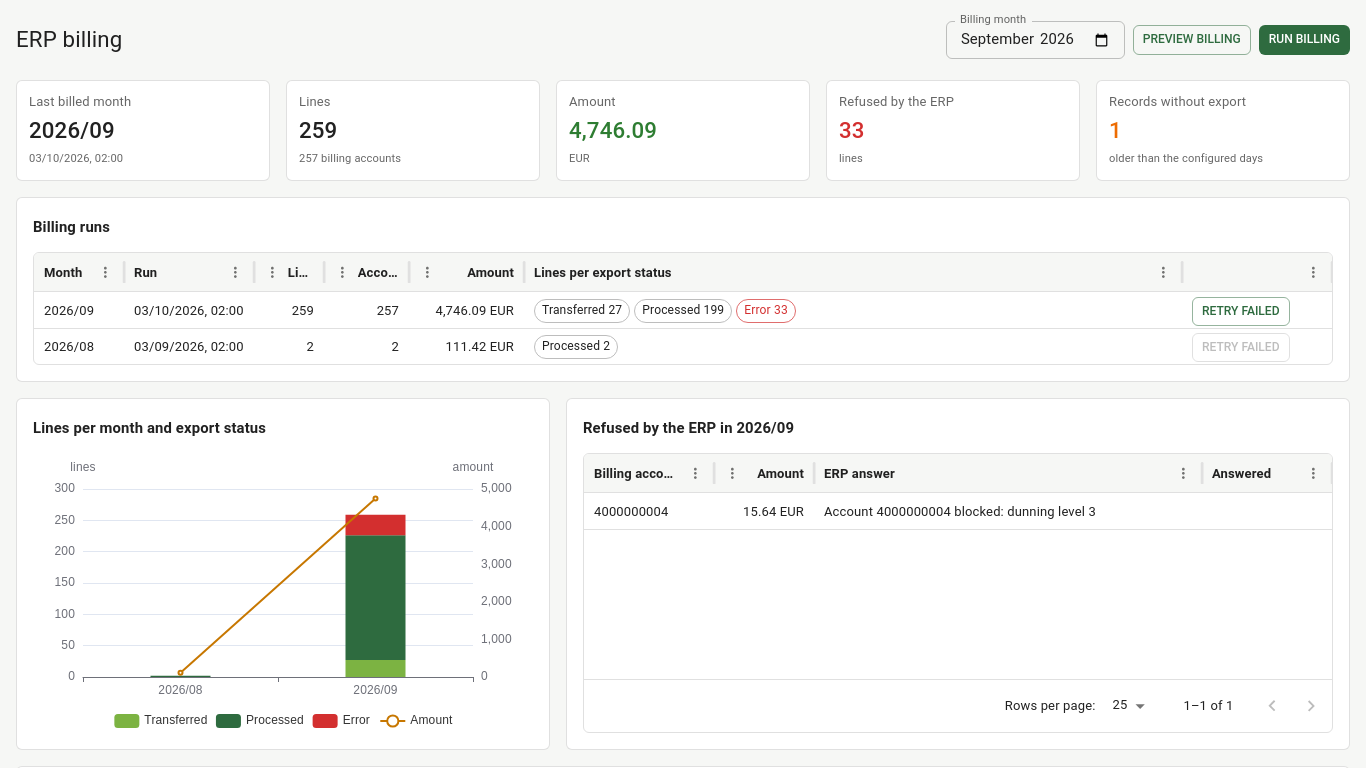
Test: ERP billing tab › previews the billing of the chosen month without storing it
The image size is (1366, 768).
Replace the text in the field with test id "billing-month" with "2026-10": [1035, 40] box [946,21,1125,59]
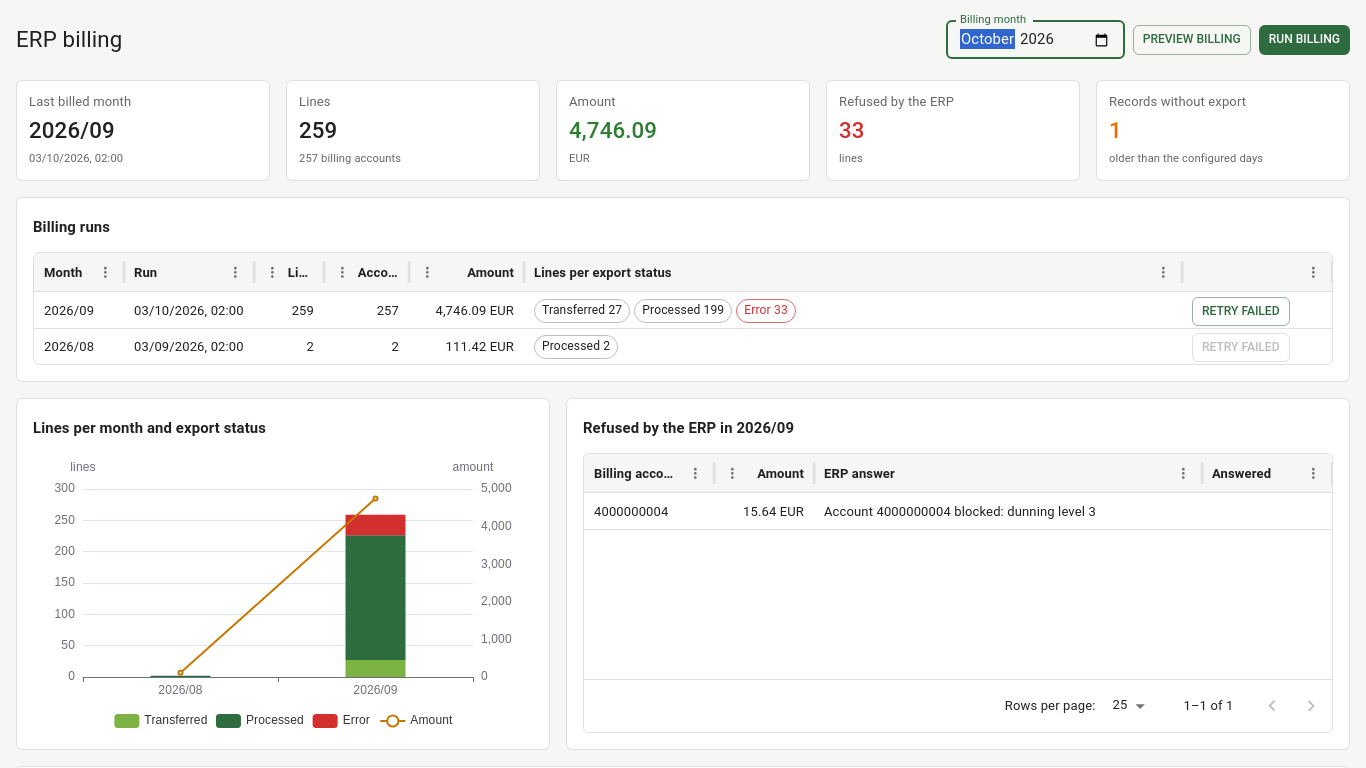
Click the button with test id "preview-billing": [1192, 40] box [1133,25,1251,54]
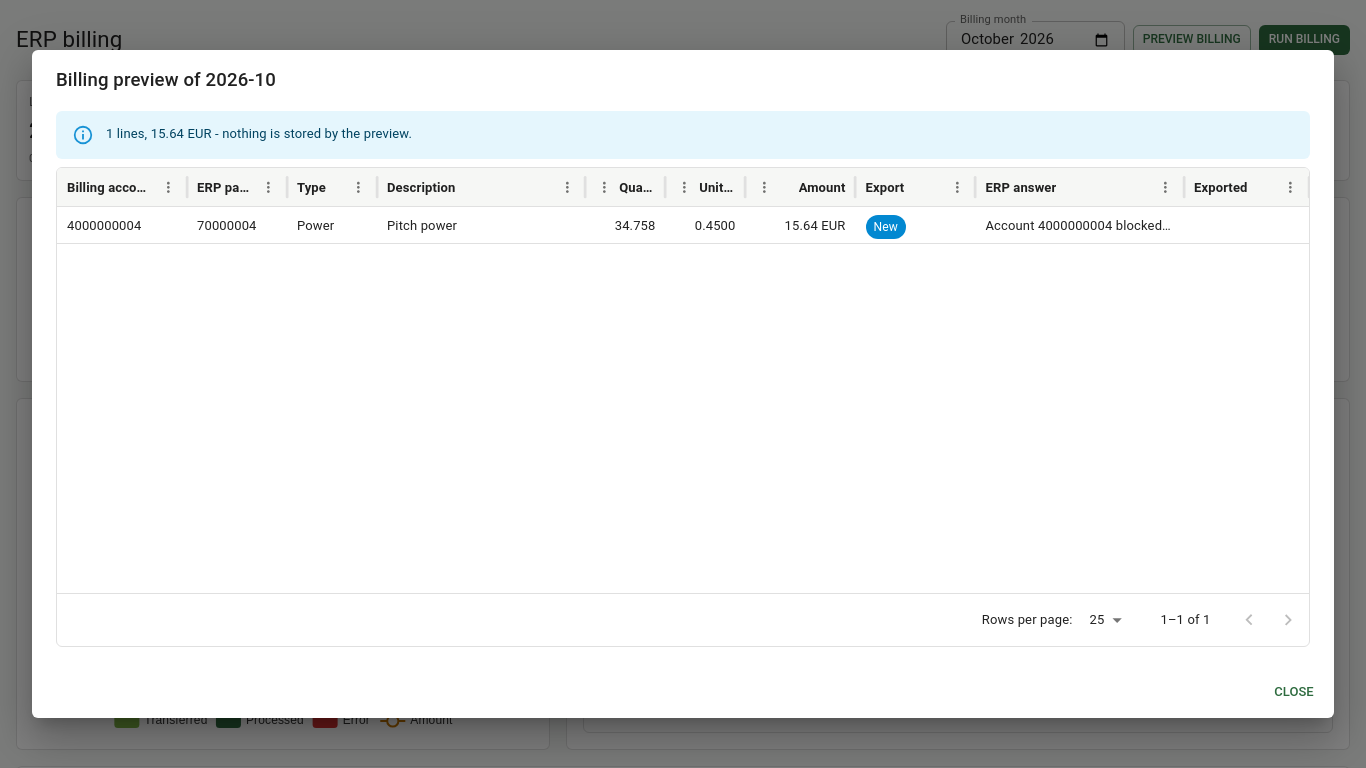
Check: the text "1 lines, 15.64 EUR - nothing is stored by the preview." is shown, box [106,126,412,142]
